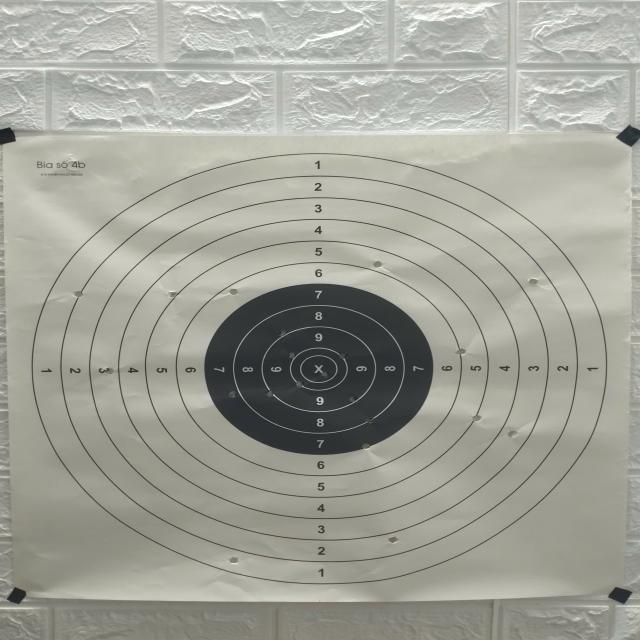bullet: (455, 348, 466, 358), (471, 414, 482, 424), (166, 290, 179, 298), (266, 388, 275, 397), (388, 536, 398, 544), (508, 430, 517, 438), (528, 278, 538, 285), (104, 367, 114, 374), (321, 371, 329, 379), (228, 390, 236, 398), (74, 290, 82, 298), (373, 261, 382, 268), (229, 557, 238, 564), (361, 443, 371, 449), (366, 416, 373, 424), (229, 289, 238, 295), (289, 352, 295, 360), (295, 381, 303, 387), (279, 330, 286, 336), (339, 354, 345, 360), (350, 396, 355, 403)
target: (5, 134, 630, 600)
